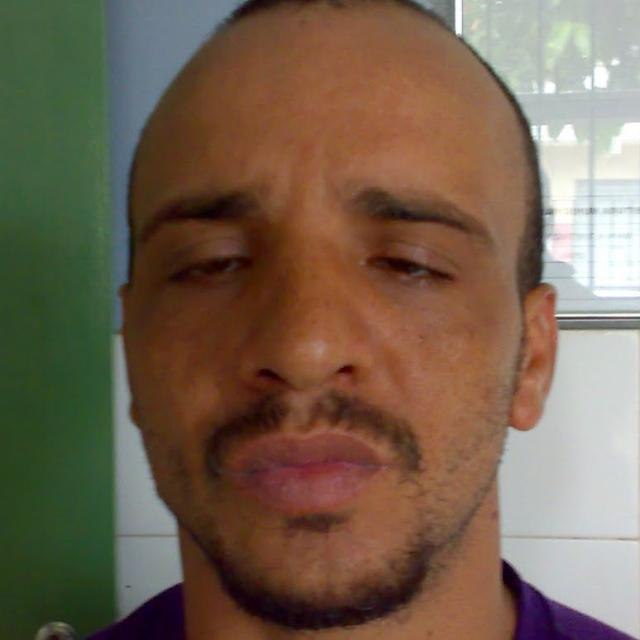Depress: (124, 17, 533, 627)
